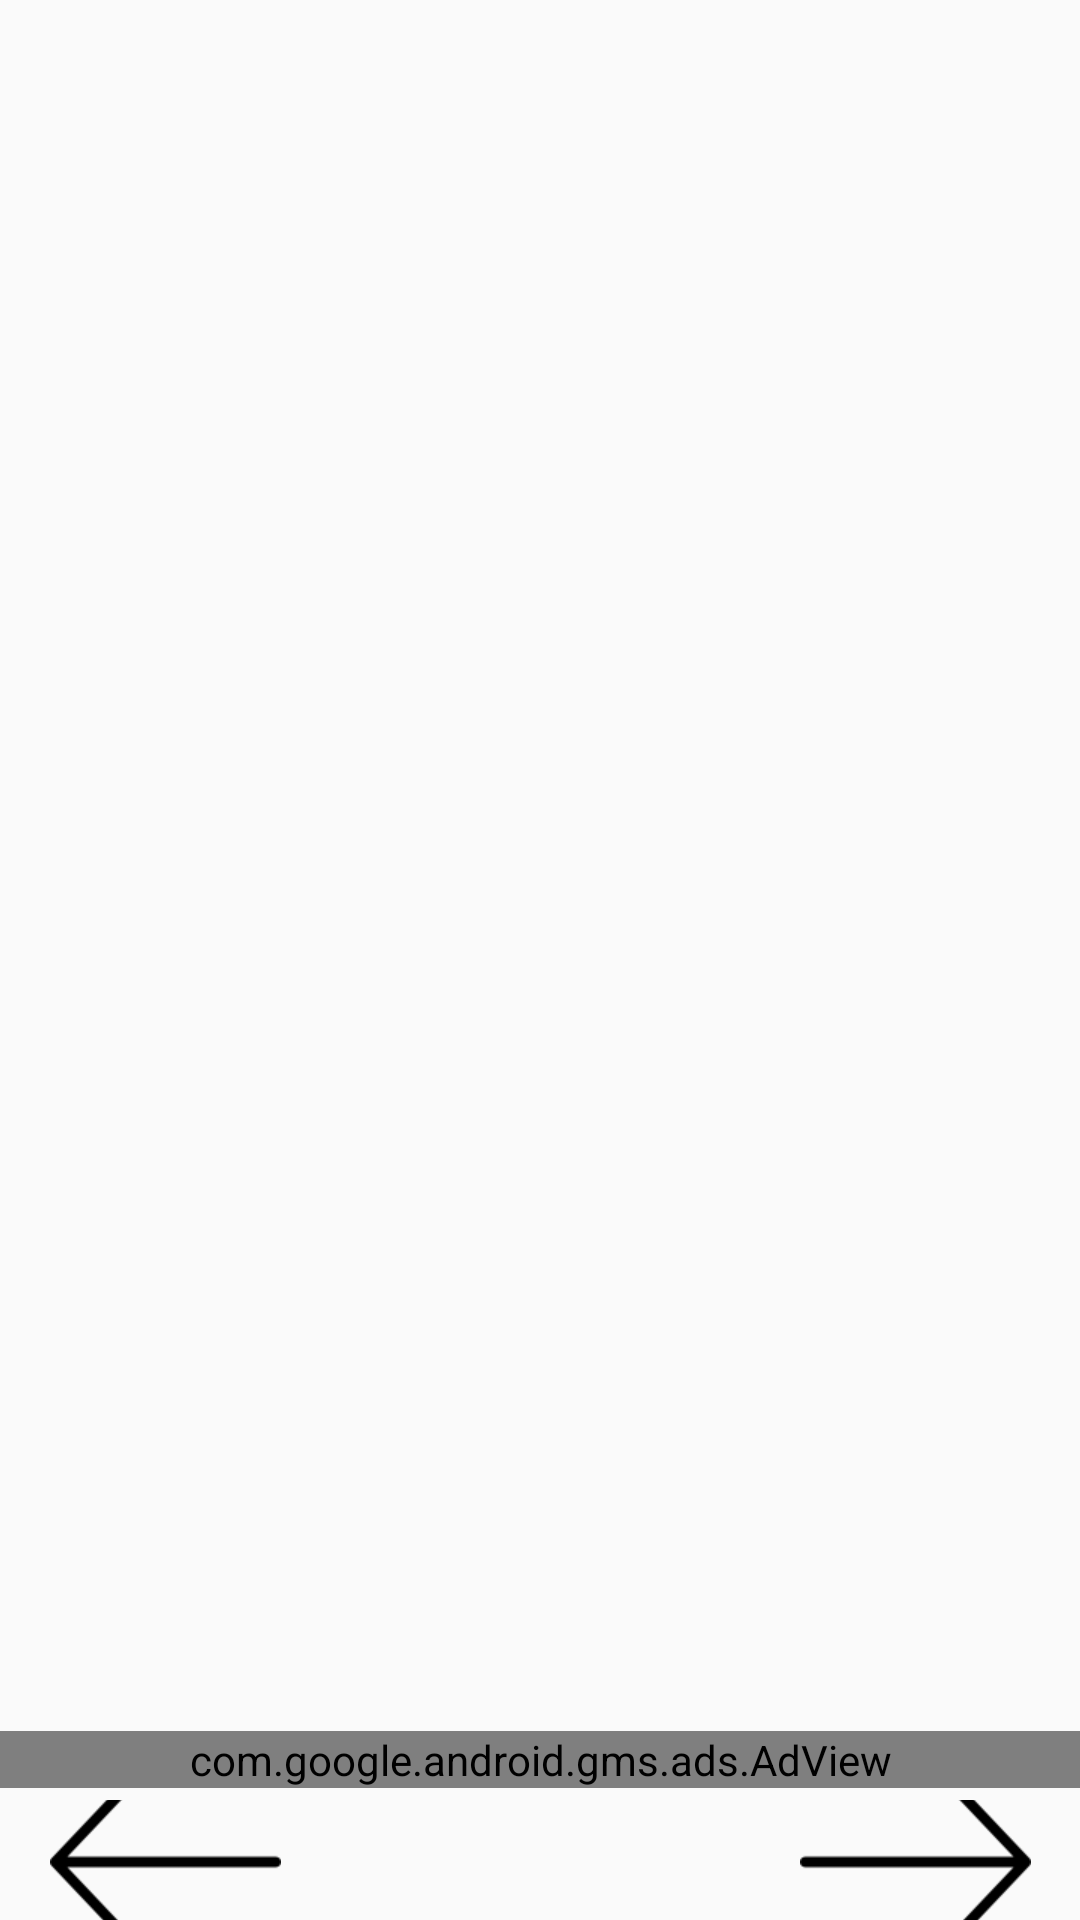

Icons on this 1080px x 1920px Android screen, each with its box as box=[x1, y1, x2, y2]:
mo arrowback: box=[50, 1800, 281, 1920]
mo arrowforward: box=[800, 1800, 1031, 1920]
